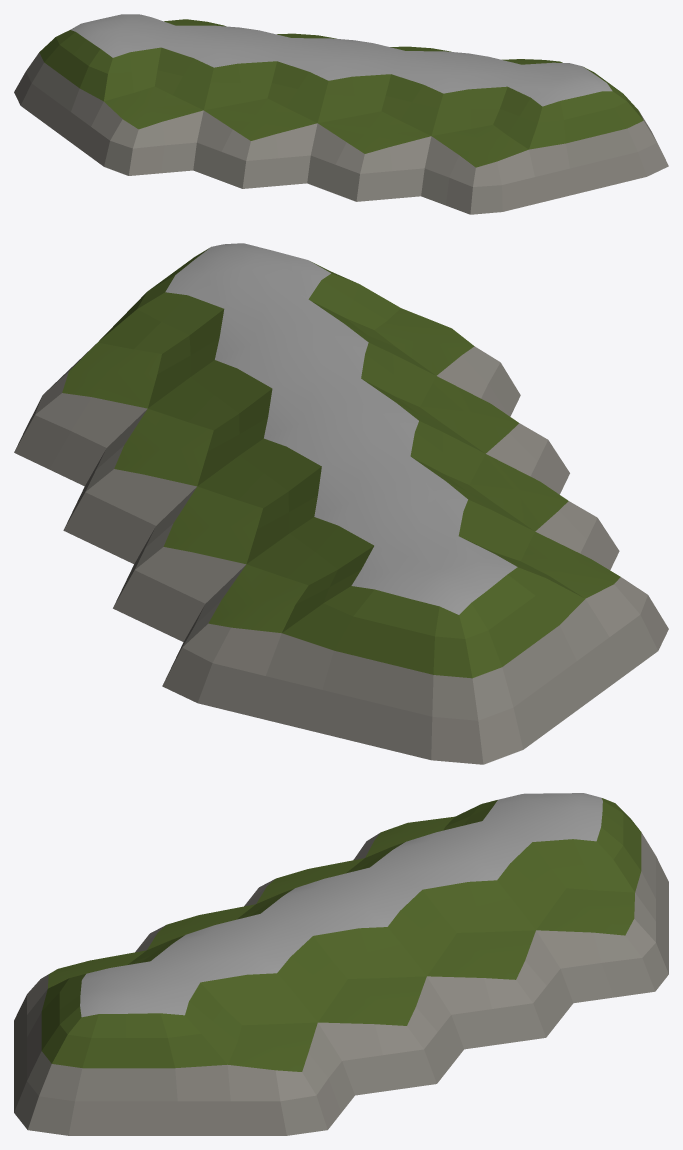
The model's file is Island11.FBX.
3 renders of one model, top to bottom at view 1: azimuth 30°, elevation 25°; view 2: azimuth 150°, elevation 25°; view 3: azimuth 270°, elevation 25°, orthographic. The views are drawn at different scales.
Parts seen in each view (by area): view 1: Plane001; view 2: Plane001; view 3: Plane001.
Boxes of the visible parts, box(x1,y1,x2,y2) form: Plane001: box(14, 14, 668, 214); Plane001: box(14, 243, 668, 764); Plane001: box(14, 793, 668, 1135).
Bounding box in the file's own units: 60 × 10.01 × 60.
